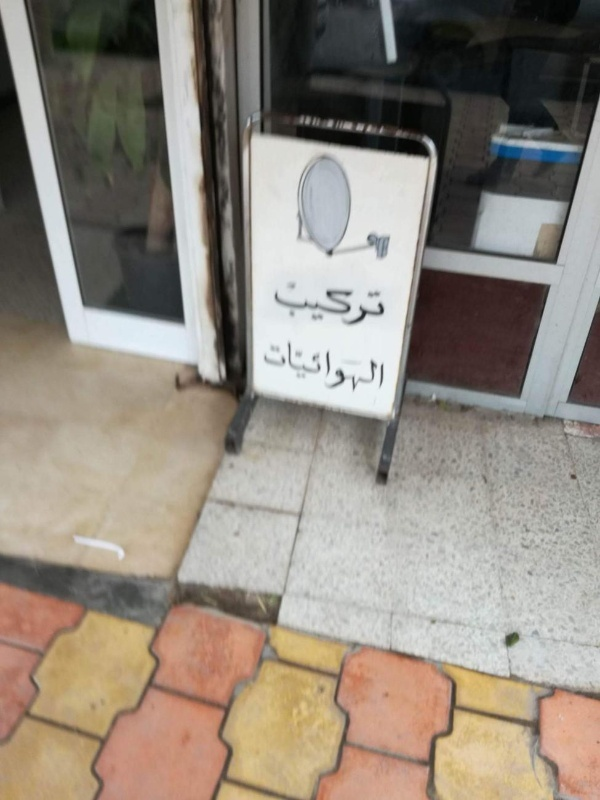text: (273, 334, 288, 402), (289, 334, 304, 402), (305, 334, 320, 402), (321, 334, 336, 402), (337, 334, 352, 402), (353, 334, 368, 402), (369, 334, 384, 402), (273, 276, 288, 336), (289, 276, 304, 336), (305, 276, 320, 336), (321, 276, 336, 336), (337, 276, 352, 336), (353, 276, 368, 336), (369, 276, 384, 336), (263, 334, 272, 402), (385, 334, 388, 402), (385, 276, 387, 336)
